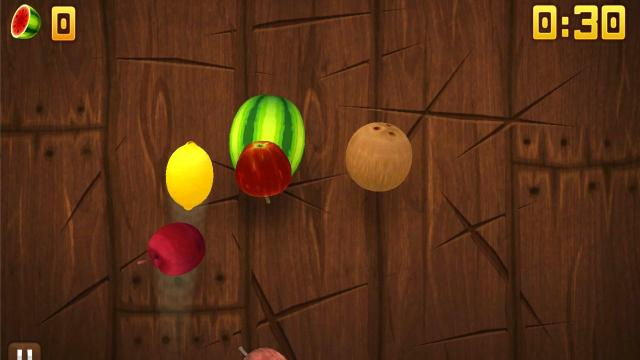fruit: (229, 96, 303, 174), (344, 122, 412, 190), (165, 139, 215, 211), (138, 224, 206, 276), (235, 141, 292, 201), (238, 344, 292, 360)
ignore: (10, 4, 42, 40)
